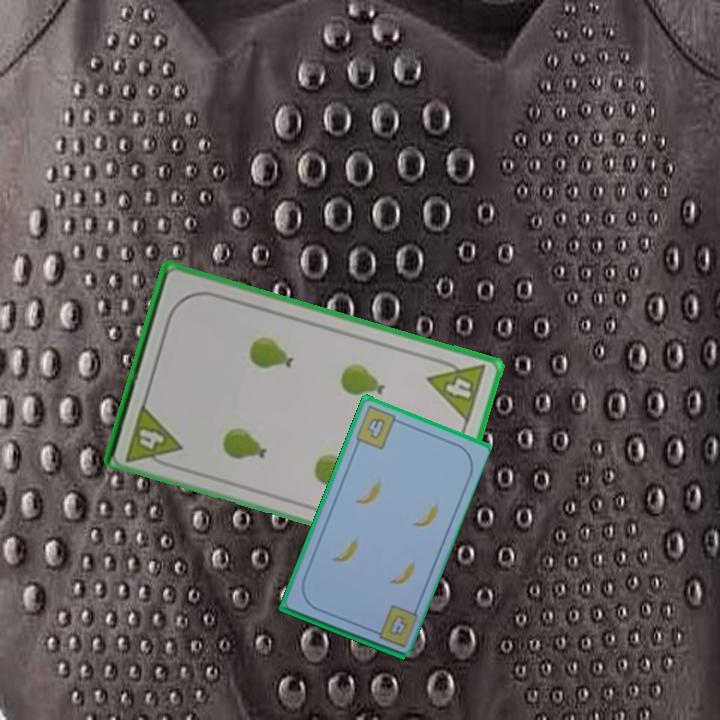4b: (352, 402, 404, 452), (385, 611, 410, 638)
4p: (424, 353, 490, 425), (122, 399, 185, 472)
